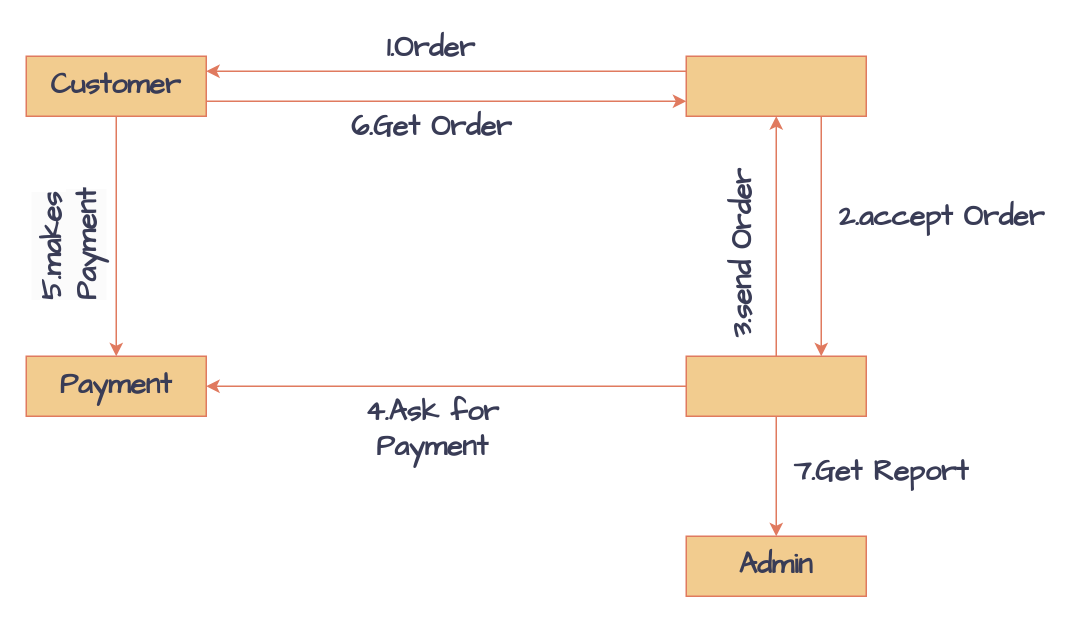
Image size: 1088x623. Some labels were removed from this diagram. Here are the shapes that lost their labels. From the top down, the box of each, then its label:
(685, 55, 866, 116): Item
(685, 355, 866, 416): Seller
